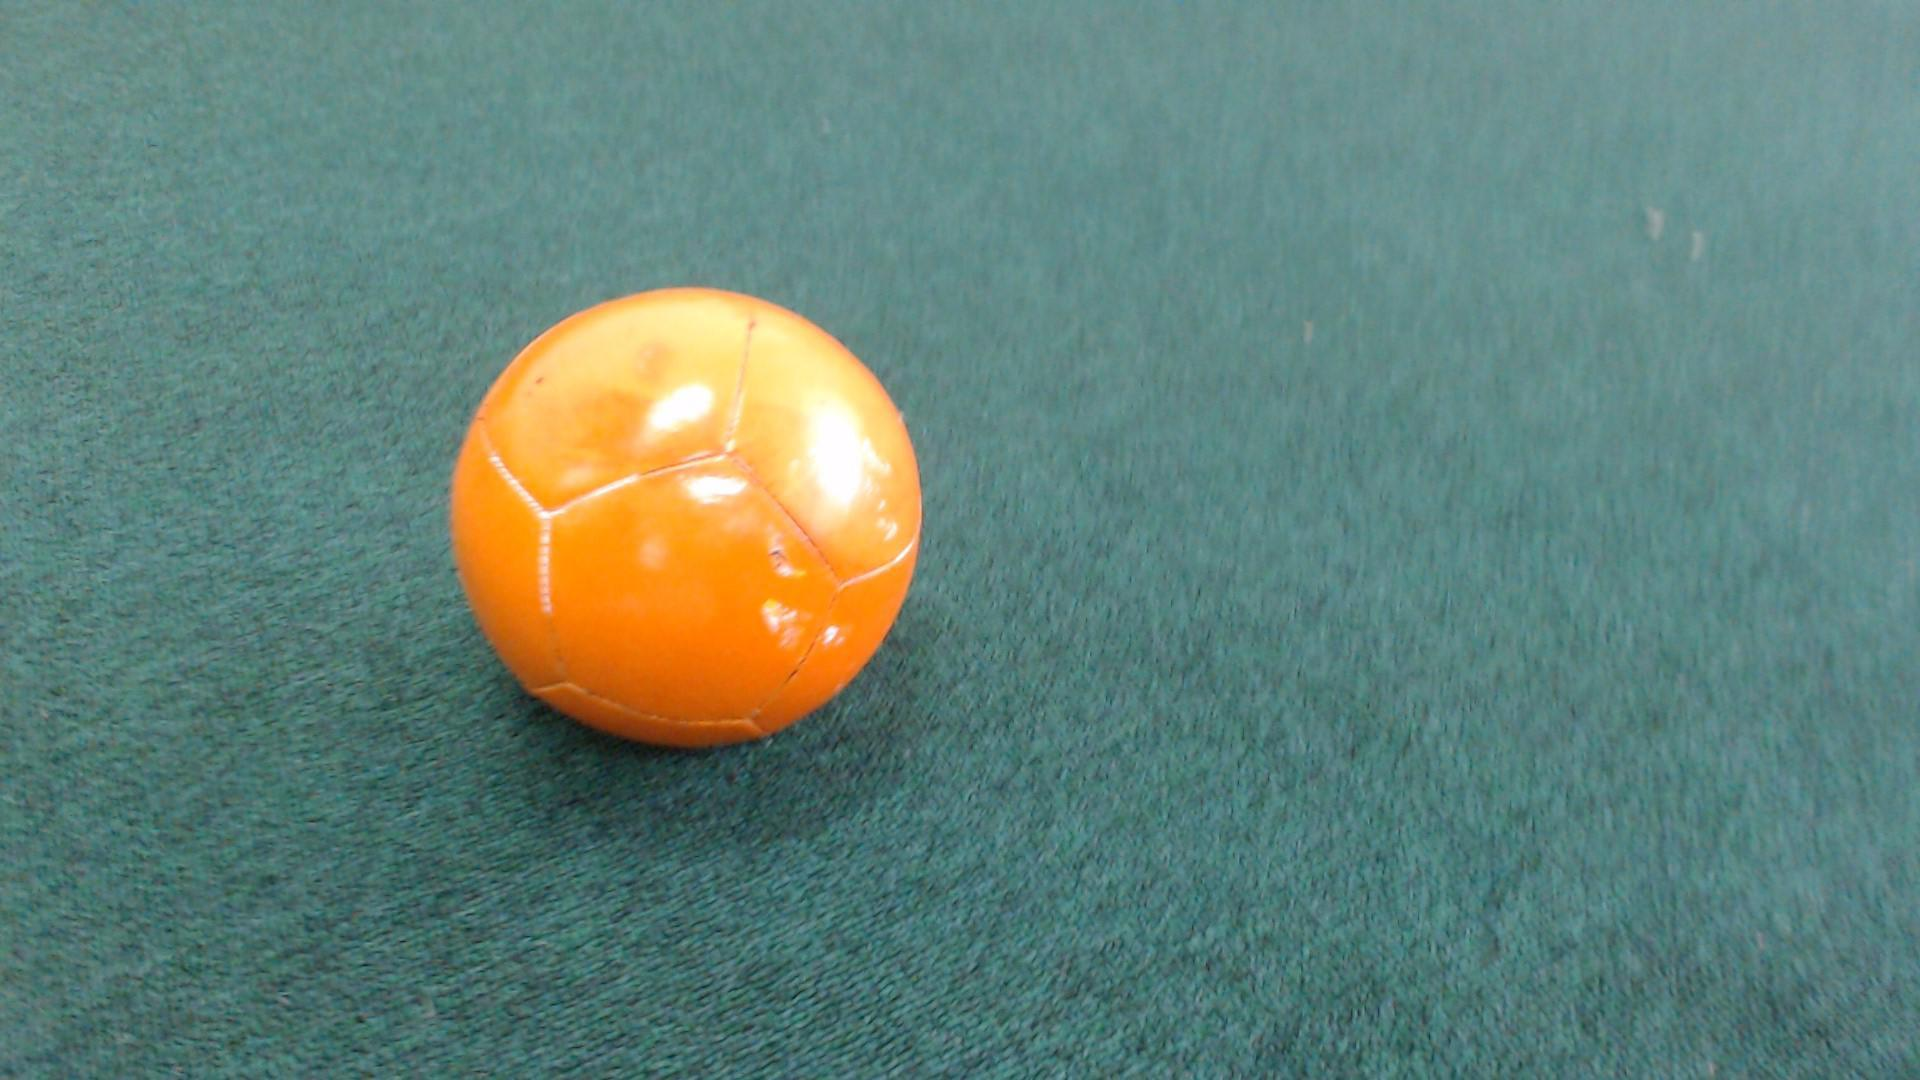bola: (381, 262, 1031, 804)
